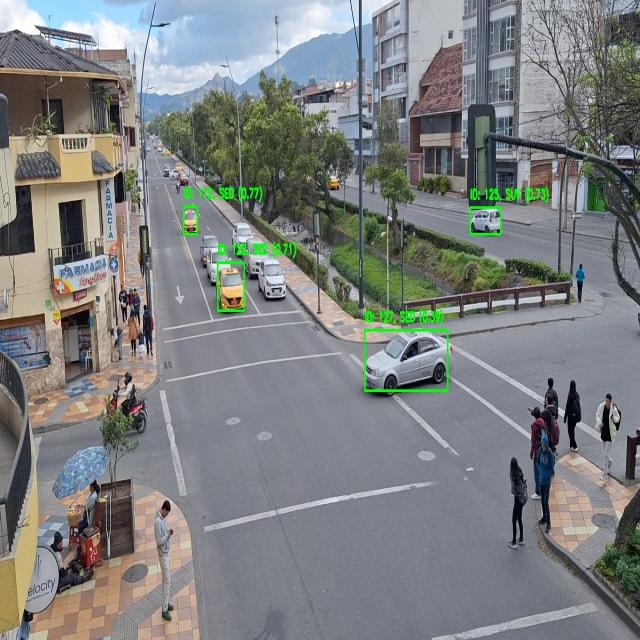CMT: (243, 238, 267, 277)
SED: (366, 331, 452, 392), (219, 266, 246, 310), (472, 209, 502, 233)
SUV: (233, 222, 256, 250)
